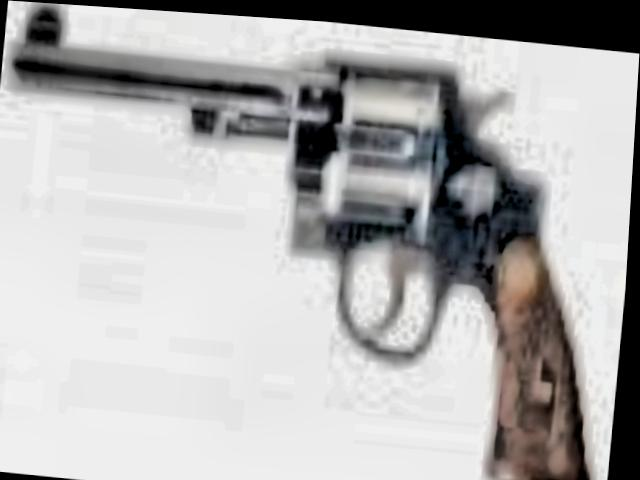pistol: (0, 5, 635, 480)
